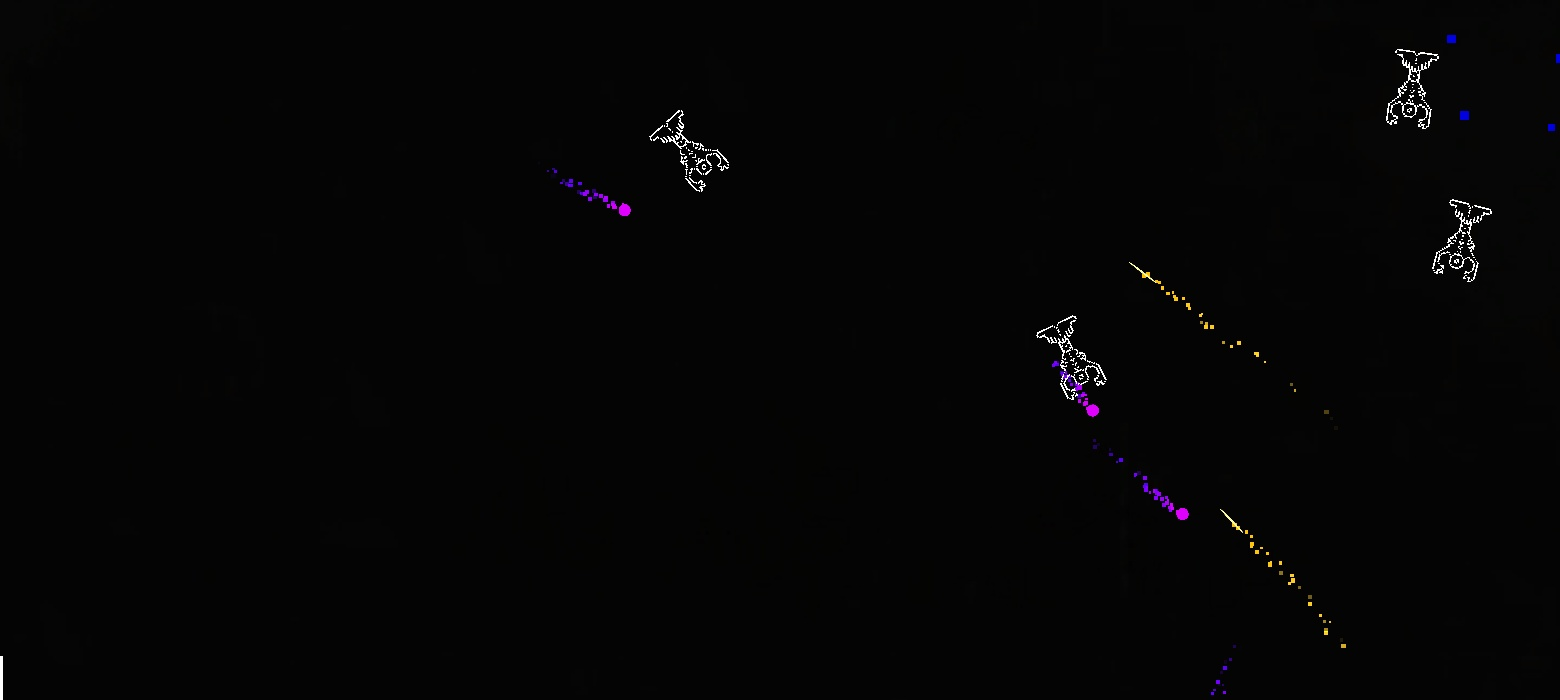enemy: (649, 109, 729, 193), (1036, 315, 1107, 400), (1432, 198, 1492, 283), (1386, 49, 1439, 129)
